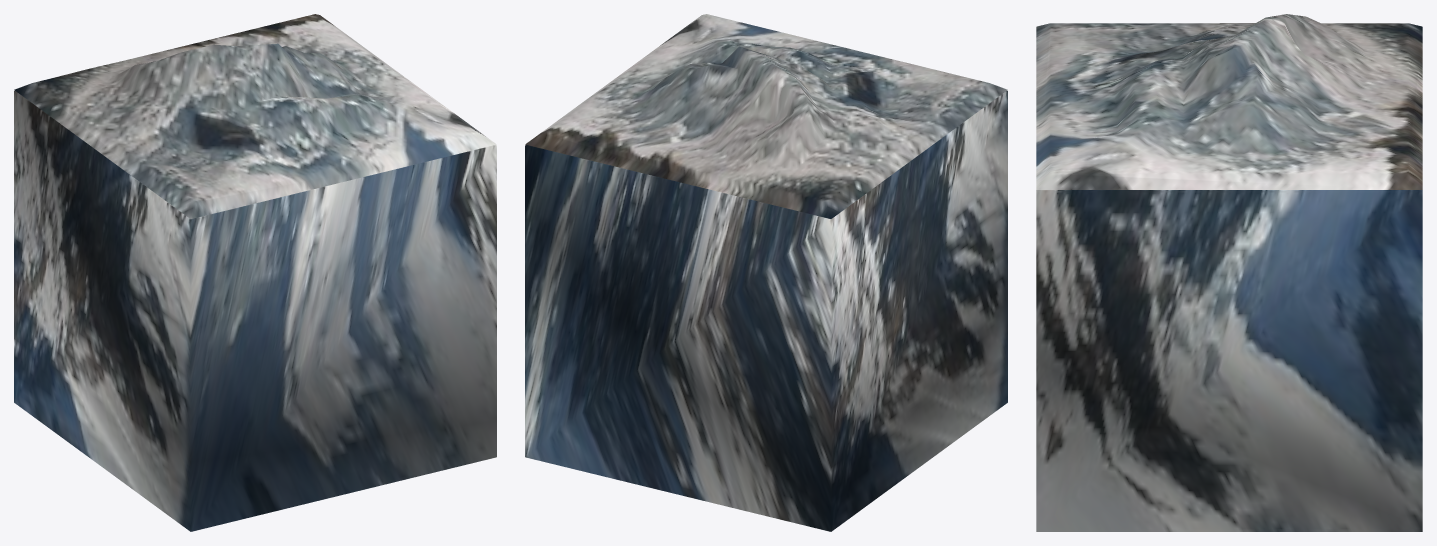
File: mountainBlock.fbx
The picture shows the model from 3 angles, left to right: view 1: azimuth 30°, elevation 25°; view 2: azimuth 150°, elevation 25°; view 3: azimuth 270°, elevation 25°; orthographic projection. The views are drawn at different scales.
Visible parts, largest first — view 1: Cube_001; view 2: Cube_001; view 3: Cube_001.
Boxes of the visible parts, x1,y1,x2,y2 form: Cube_001: [14, 14, 496, 531]; Cube_001: [525, 14, 1007, 531]; Cube_001: [1036, 14, 1422, 531].
Size of the model in its own units: 2 by 2.37 by 2.
